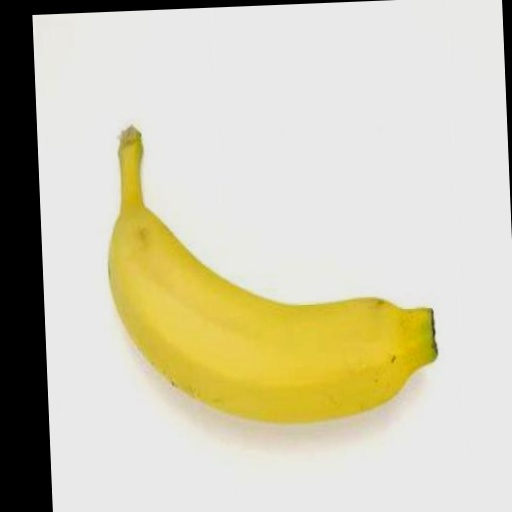fruit: (108, 128, 435, 421)
